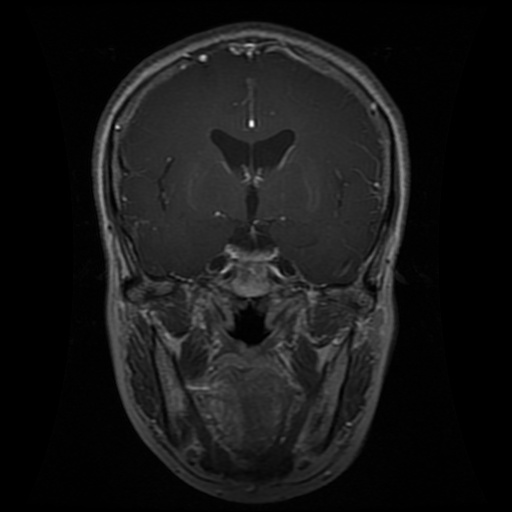glioma: (153, 153, 178, 209)
